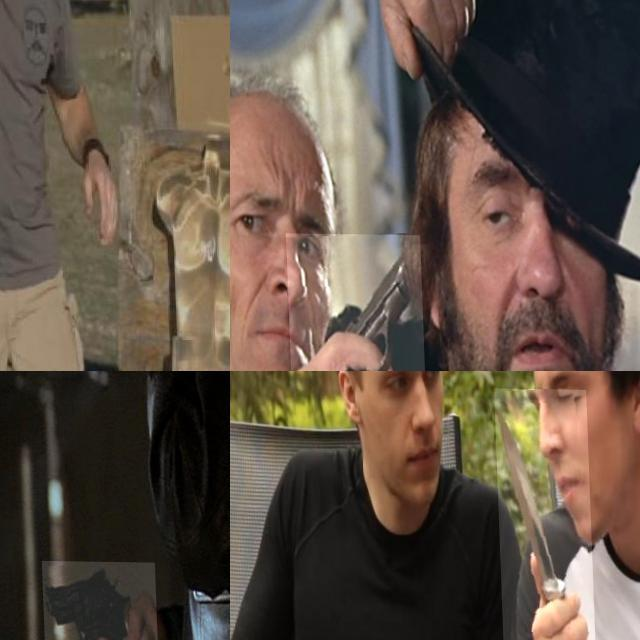-: (492, 387, 593, 640), (0, 123, 30, 280)
gun-knife-thesis - v11 Yolov5 augmented: (283, 232, 424, 371), (37, 560, 153, 640)
